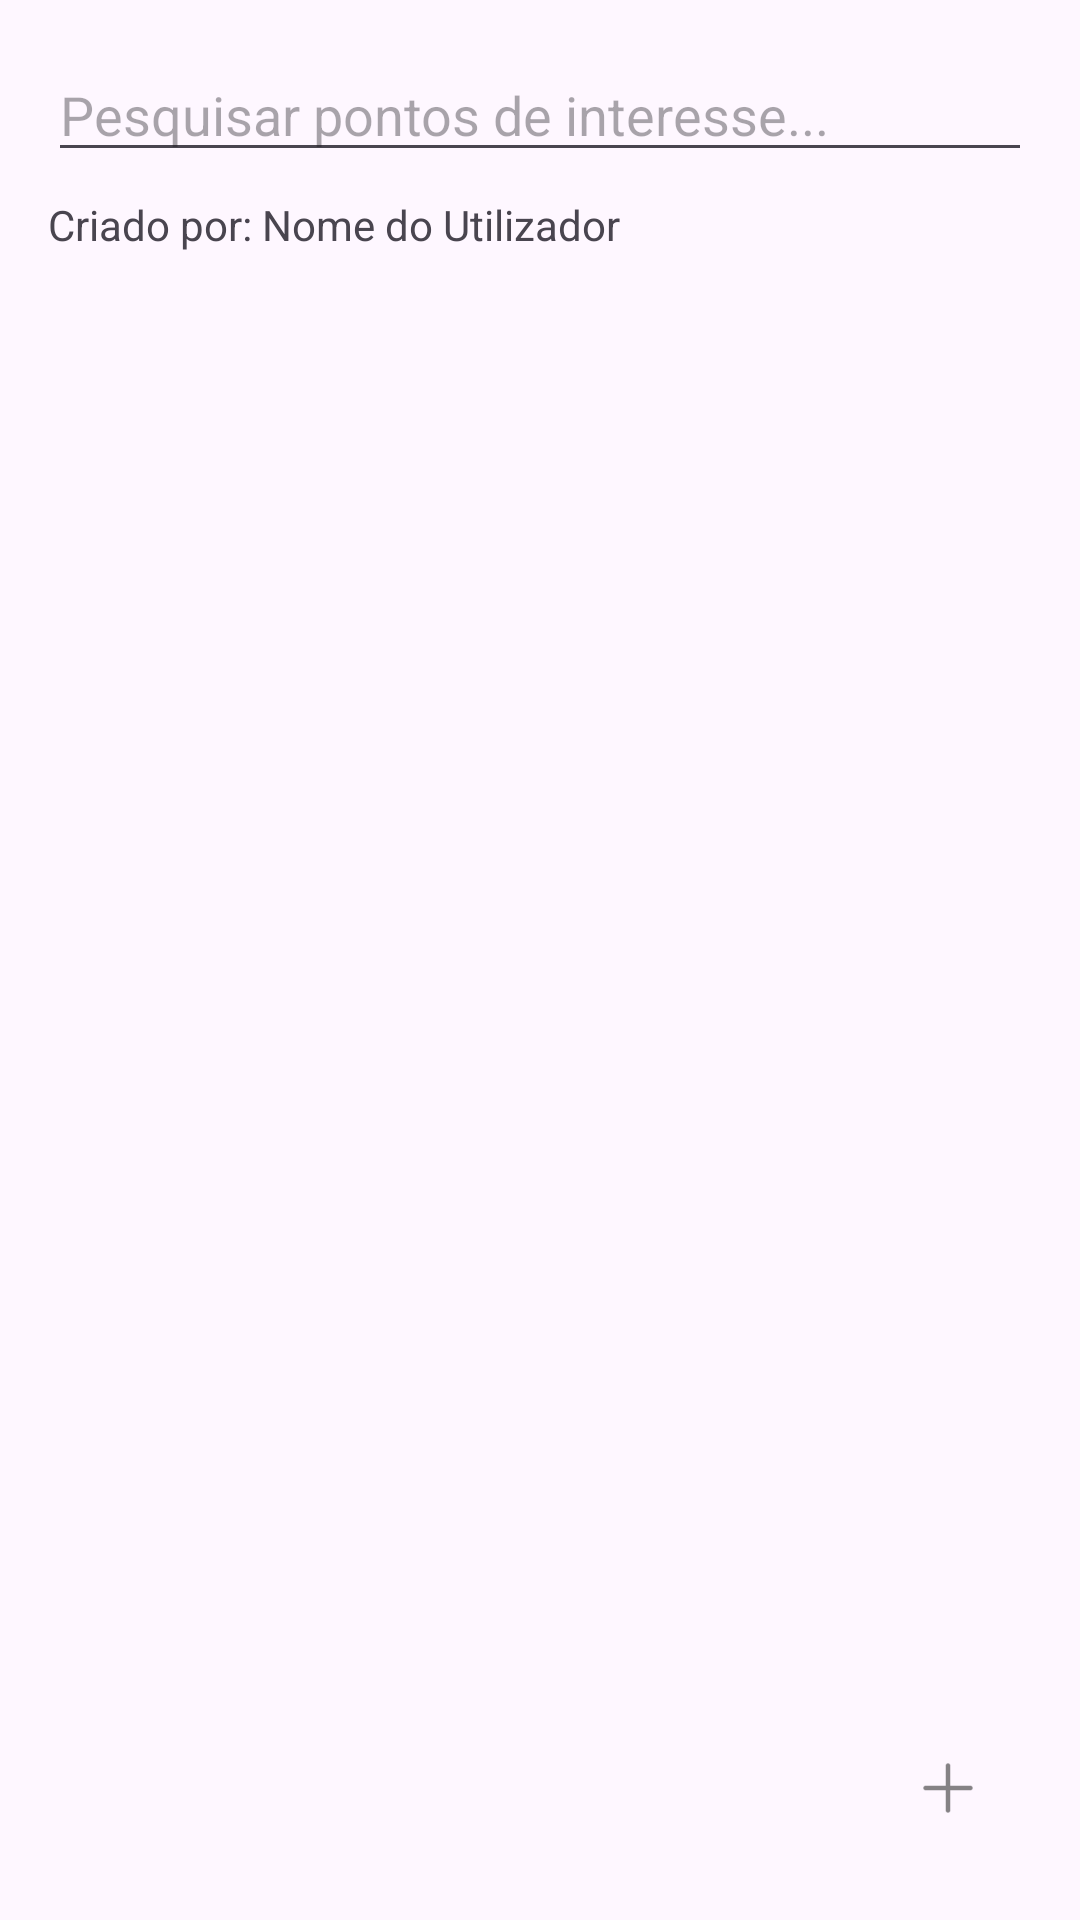

Icon bounding boxes for this 1080 × 1920 phone screenshot, format (x1, y1, x2, y2):
mais: (923, 1763, 973, 1813)
